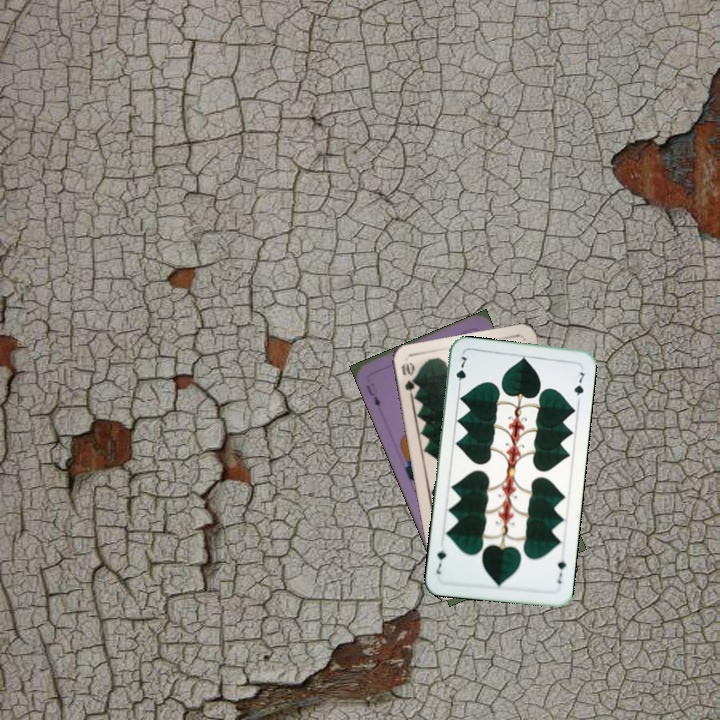EU: (362, 381, 383, 410)
G10: (397, 358, 418, 399)
G7: (452, 352, 469, 392), (553, 556, 568, 586)
